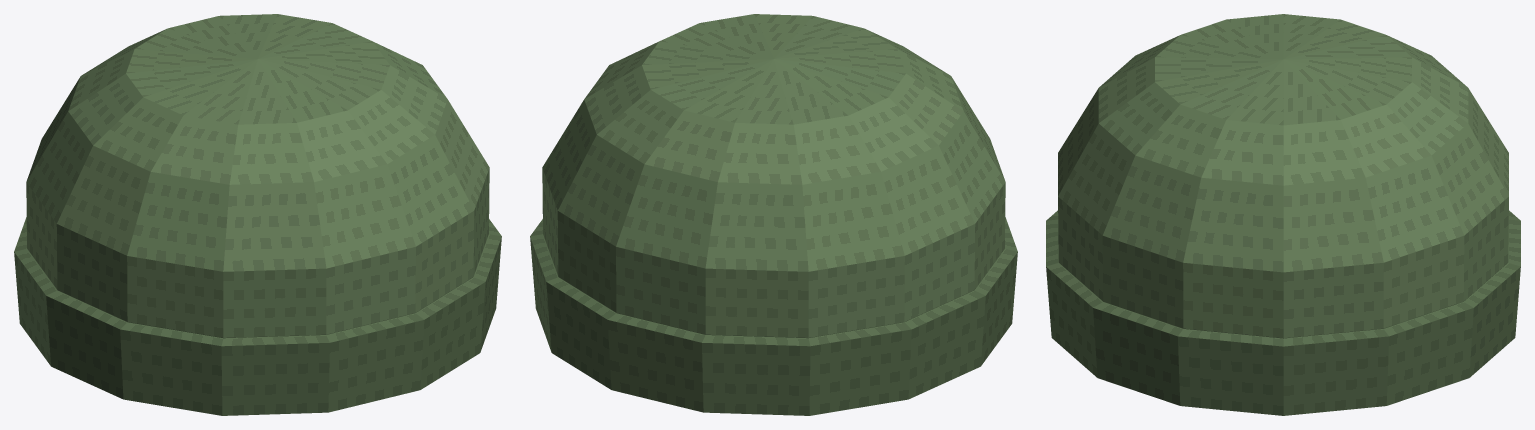
File: helmet_liner.glb
3 renders of one model, left to right at view 1: azimuth 30°, elevation 25°; view 2: azimuth 150°, elevation 25°; view 3: azimuth 270°, elevation 25°, orthographic.
Visible parts, largest first — view 1: block_fabric crown, block_turn-up cuff; view 2: block_fabric crown, block_turn-up cuff; view 3: block_fabric crown, block_turn-up cuff.
Part boxes in pixels (x1,y1,x2,y2): block_fabric crown: [26, 14, 489, 338]; block_turn-up cuff: [14, 217, 501, 415]; block_fabric crown: [542, 14, 1005, 338]; block_turn-up cuff: [530, 217, 1017, 415]; block_fabric crown: [1058, 14, 1508, 338]; block_turn-up cuff: [1046, 210, 1520, 415].
Size of the model in its own units: 0.1588 by 0.0921 by 0.1548.
Materials: 1 (1 with a texture image).
